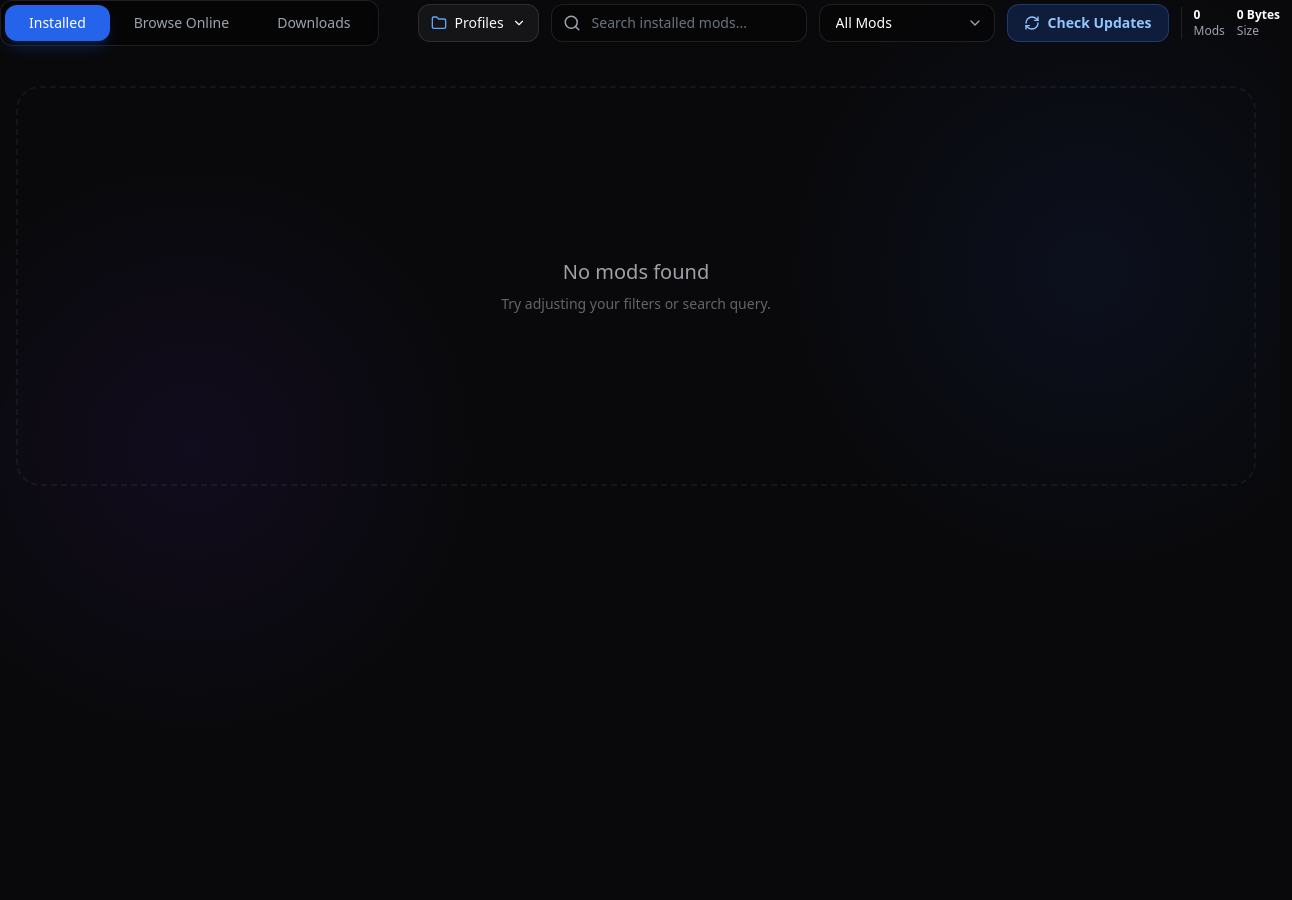
Test: Frontend Final Gaps › Mods Page Error Handling › should handle installOnlineMod exception
This screenshot has width=1292, height=900.
What coordinates should you click on to do the following:
click the button "Browse Online"
I would click on:
 (182, 23)
Its box is 110,5 -> 253,41.
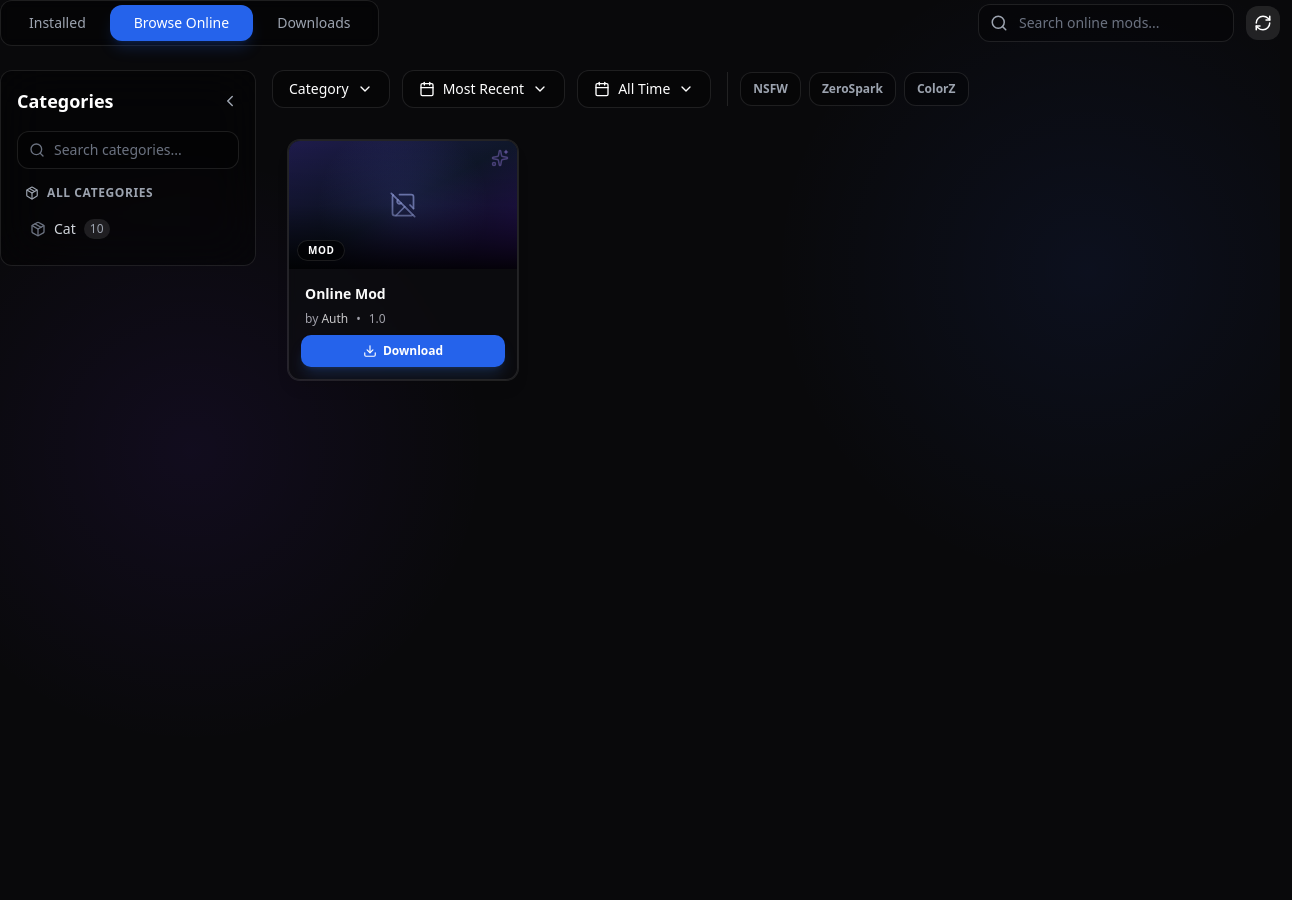
What coordinates should you click on to do the following:
click the button "Download"
I would click on:
 (403, 351)
Its box is 301,335 -> 505,367.
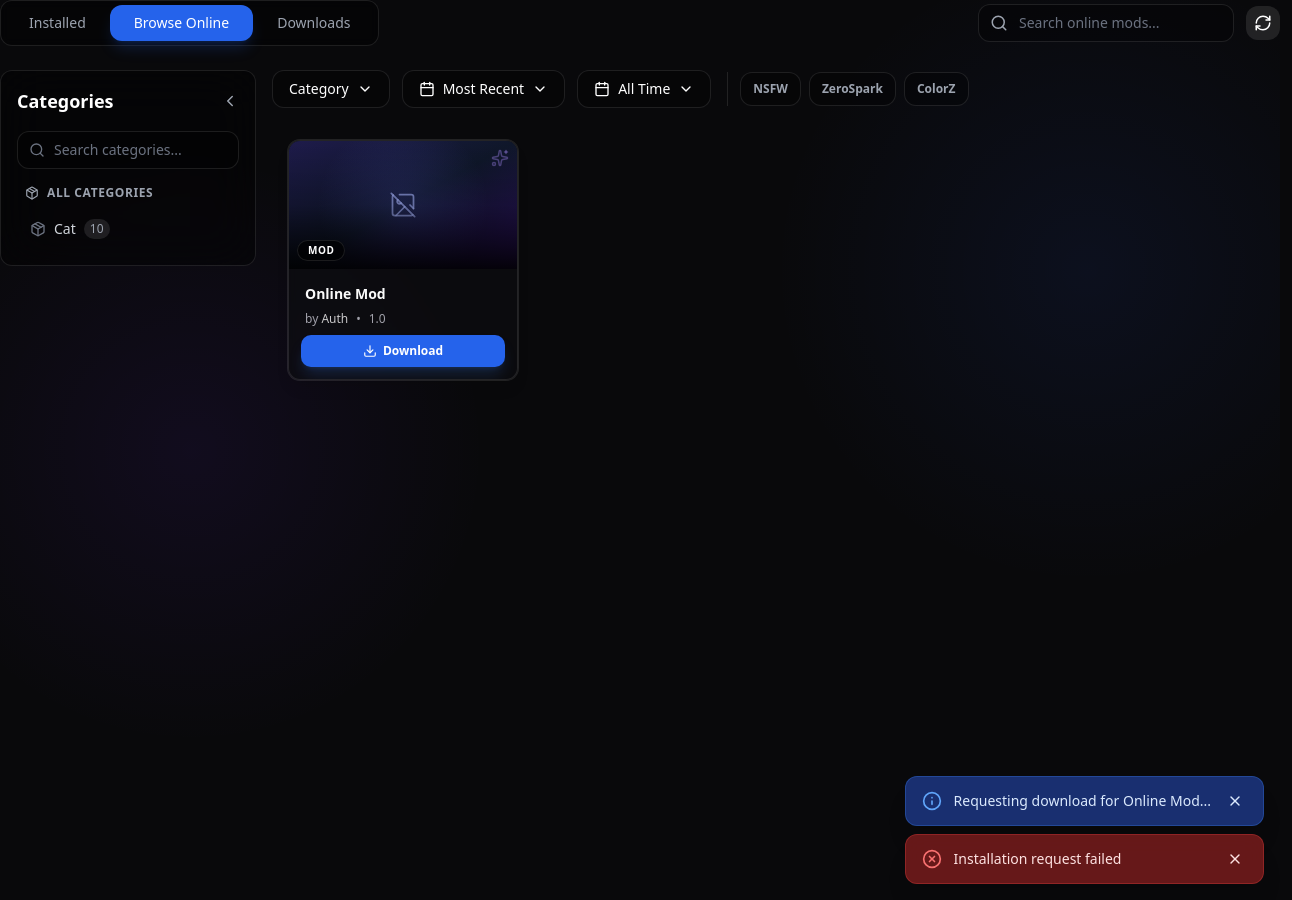
Expected: the text "Installation request failed" is shown, 954,849 -> 1122,868
